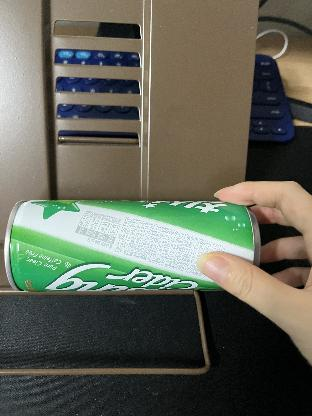Can: (5, 196, 262, 293)
